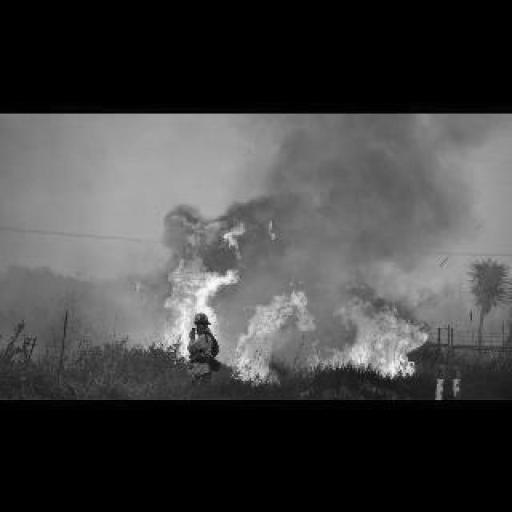smoke: (149, 218, 427, 380)
